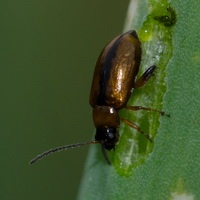insect: (30, 30, 155, 163)
